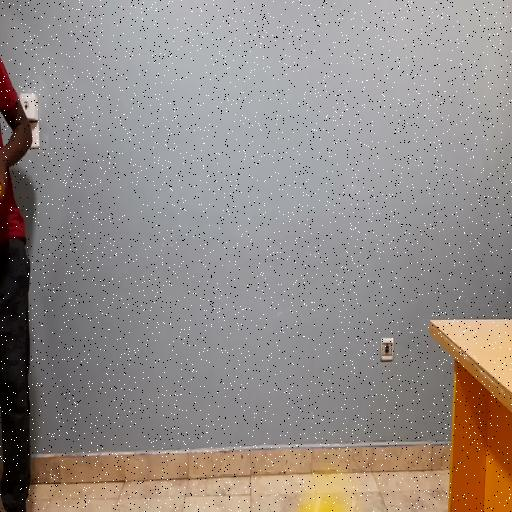plastic-ball: (294, 469, 359, 512)
